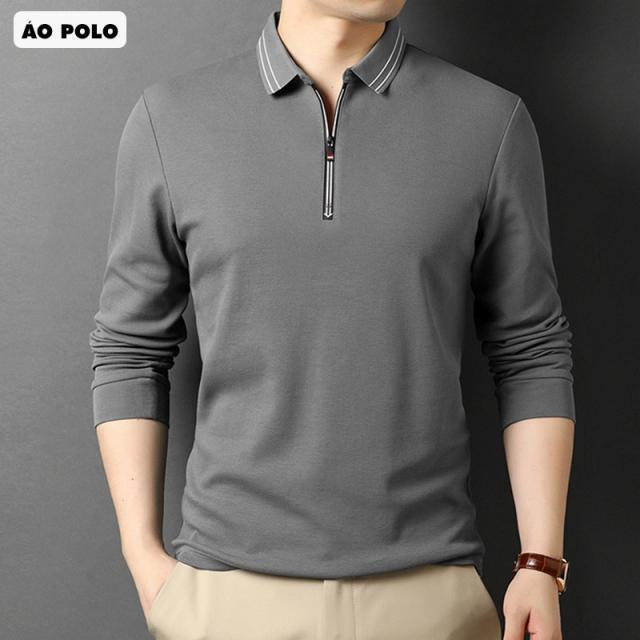sweater: (87, 5, 579, 579)
trousers: (139, 554, 502, 640)
